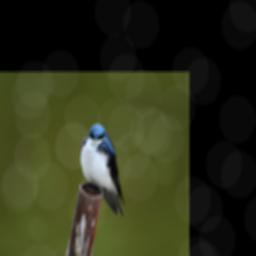Swallow: (72, 119, 137, 218)
